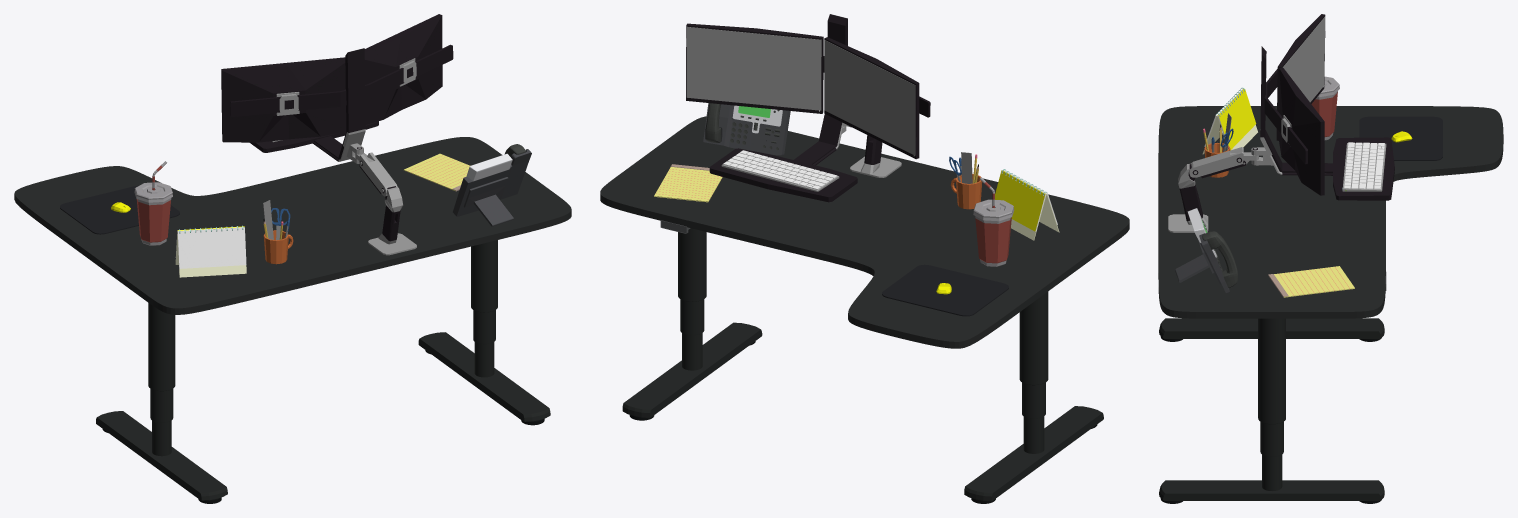
Rendered from workspace-transformed.glb.
3 views of the same model, side by side, from view 1: azimuth 30°, elevation 25°; view 2: azimuth 150°, elevation 25°; view 3: azimuth 270°, elevation 25° (orthographic). The views are drawn at different scales.
Parts seen in each view (by area): view 1: Dual Monitors on sit-stand arm|group329542522|Dupli|, Mug With Office Tool|Mug with office tools|Dupli|; view 2: Dual Monitors on sit-stand arm|group329542522|Dupli|, Calendar-8GqQAqxi3qk, Mug With Office Tool|Mug with office tools|Dupli|; view 3: Dual Monitors on sit-stand arm|group329542522|Dupli|, Calendar-8GqQAqxi3qk, Mug With Office Tool|Mug with office tools|Dupli|.
Boxes of the visible parts, x1,y1,x2,y2 form: Dual Monitors on sit-stand arm|group329542522|Dupli|: [14, 14, 571, 503]; Mug With Office Tool|Mug with office tools|Dupli|: [263, 200, 293, 264]; Dual Monitors on sit-stand arm|group329542522|Dupli|: [600, 14, 1129, 503]; Calendar-8GqQAqxi3qk: [995, 170, 1045, 231]; Mug With Office Tool|Mug with office tools|Dupli|: [949, 152, 982, 209]; Dual Monitors on sit-stand arm|group329542522|Dupli|: [1158, 14, 1503, 503]; Calendar-8GqQAqxi3qk: [1218, 89, 1256, 150]; Mug With Office Tool|Mug with office tools|Dupli|: [1203, 113, 1233, 177].
Size of the model in its own units: 2 by 1.73 by 1.42.
Materials: 4 (2 with a texture image).
